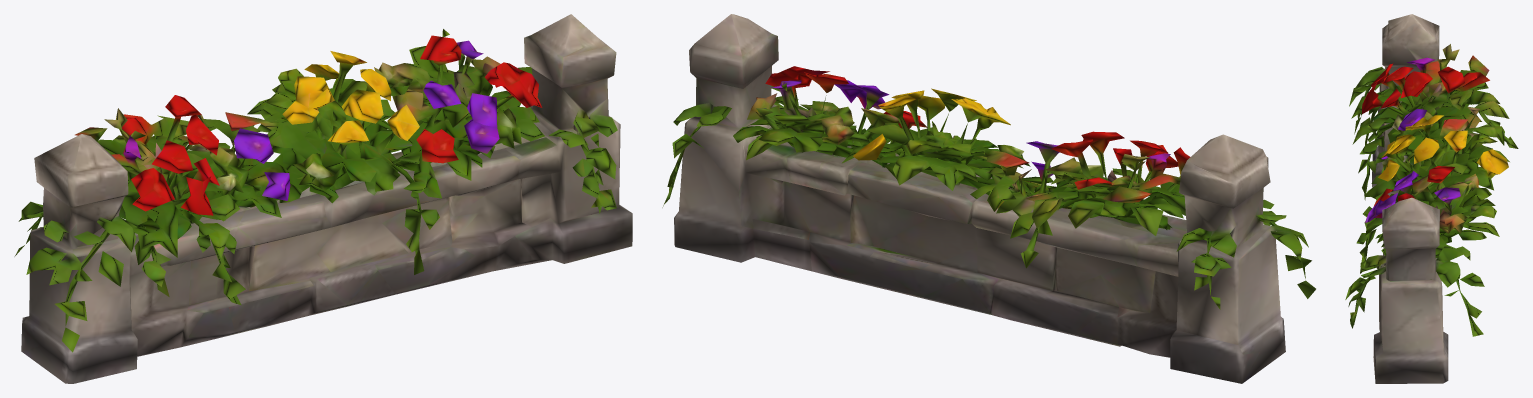
The model's file is planter.glb.
The picture shows the model from 3 angles, left to right: view 1: azimuth 30°, elevation 25°; view 2: azimuth 150°, elevation 25°; view 3: azimuth 270°, elevation 25°; orthographic projection. The views are drawn at different scales.
Parts seen in each view (by area): view 1: tripo_node_8a3f2134-9b8d-40ed-961c-7e9fb47a528a; view 2: tripo_node_8a3f2134-9b8d-40ed-961c-7e9fb47a528a; view 3: tripo_node_8a3f2134-9b8d-40ed-961c-7e9fb47a528a.
Part boxes in pixels (x1,y1,x2,y2): tripo_node_8a3f2134-9b8d-40ed-961c-7e9fb47a528a: (14,14,632,383); tripo_node_8a3f2134-9b8d-40ed-961c-7e9fb47a528a: (662,14,1315,383); tripo_node_8a3f2134-9b8d-40ed-961c-7e9fb47a528a: (1345,14,1518,383).
Size of the model in its own units: 1 by 0.3609 by 0.3291.
1 material, 1 textured.
